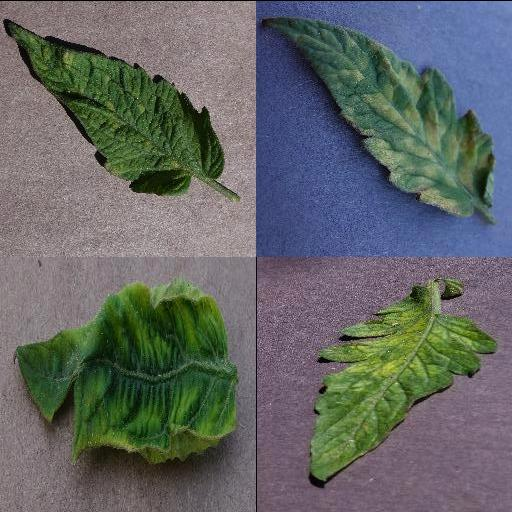Leaf Mold: (259, 16, 493, 215), (6, 17, 224, 197)
Mosaic Virus: (308, 306, 500, 482)
Yellow Leaf Curl Virus: (13, 278, 237, 462)
